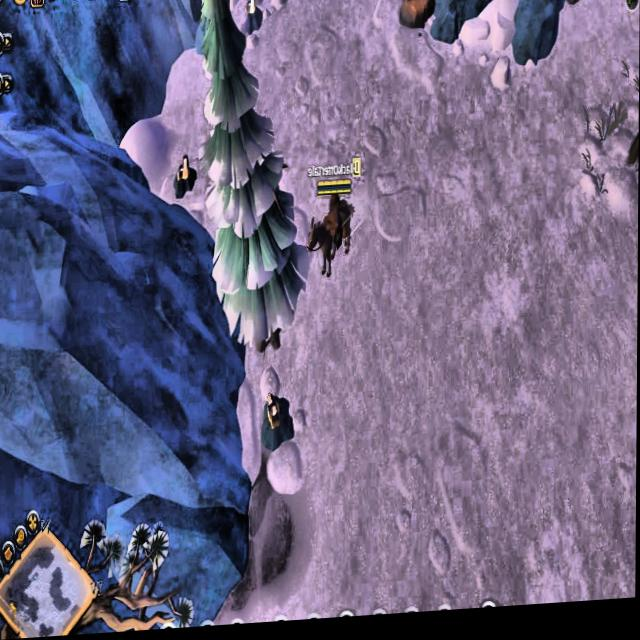copperore: (261, 391, 294, 456), (173, 149, 199, 209), (243, 0, 263, 40)
limestone: (398, 0, 439, 39), (554, 0, 584, 14)
